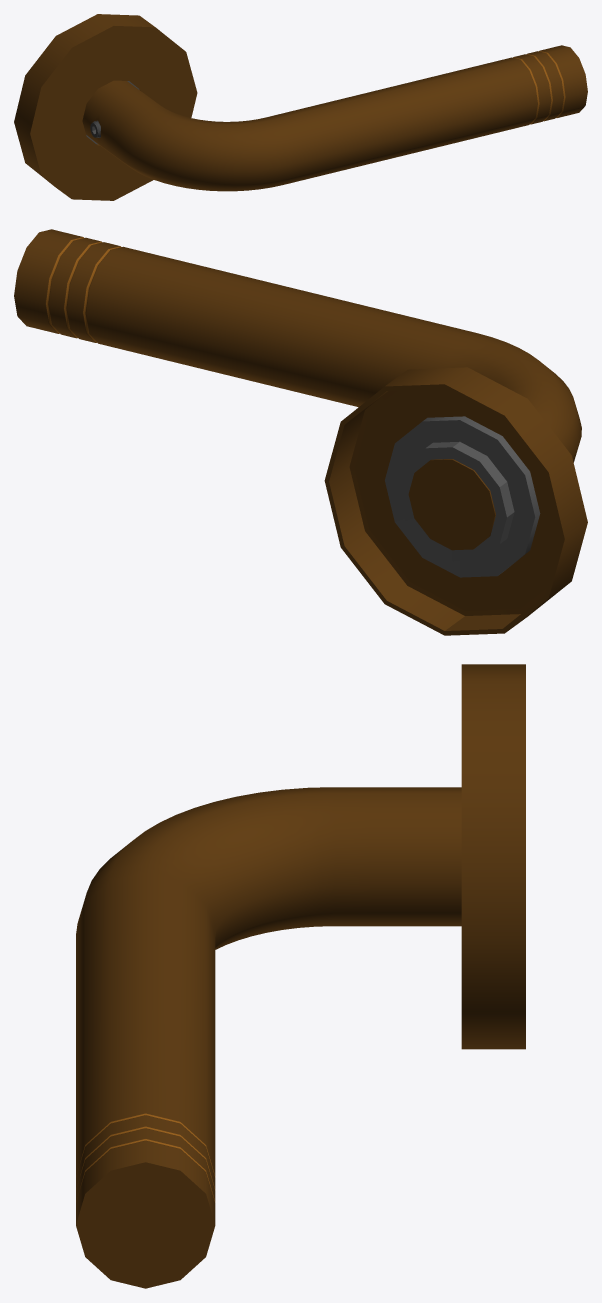
The picture shows the model from 3 angles, top to bottom: view 1: azimuth 30°, elevation 25°; view 2: azimuth 150°, elevation 25°; view 3: azimuth 270°, elevation 25°; orthographic projection. The views are drawn at different scales.
Visible parts, largest first — view 1: Handle, Escutcheons Handle; view 2: Handle, Escutcheons Handle, Washer; view 3: Handle, Escutcheons Handle.
Boxes of the visible parts, x1,y1,x2,y2 form: Handle: [82, 45, 587, 191]; Escutcheons Handle: [14, 14, 197, 200]; Handle: [14, 229, 581, 550]; Escutcheons Handle: [324, 367, 587, 635]; Washer: [385, 416, 540, 577]; Handle: [76, 787, 461, 1288]; Escutcheons Handle: [461, 664, 525, 1049].
Bounding box in the file's own units: 153 × 55.4 × 64.53.
